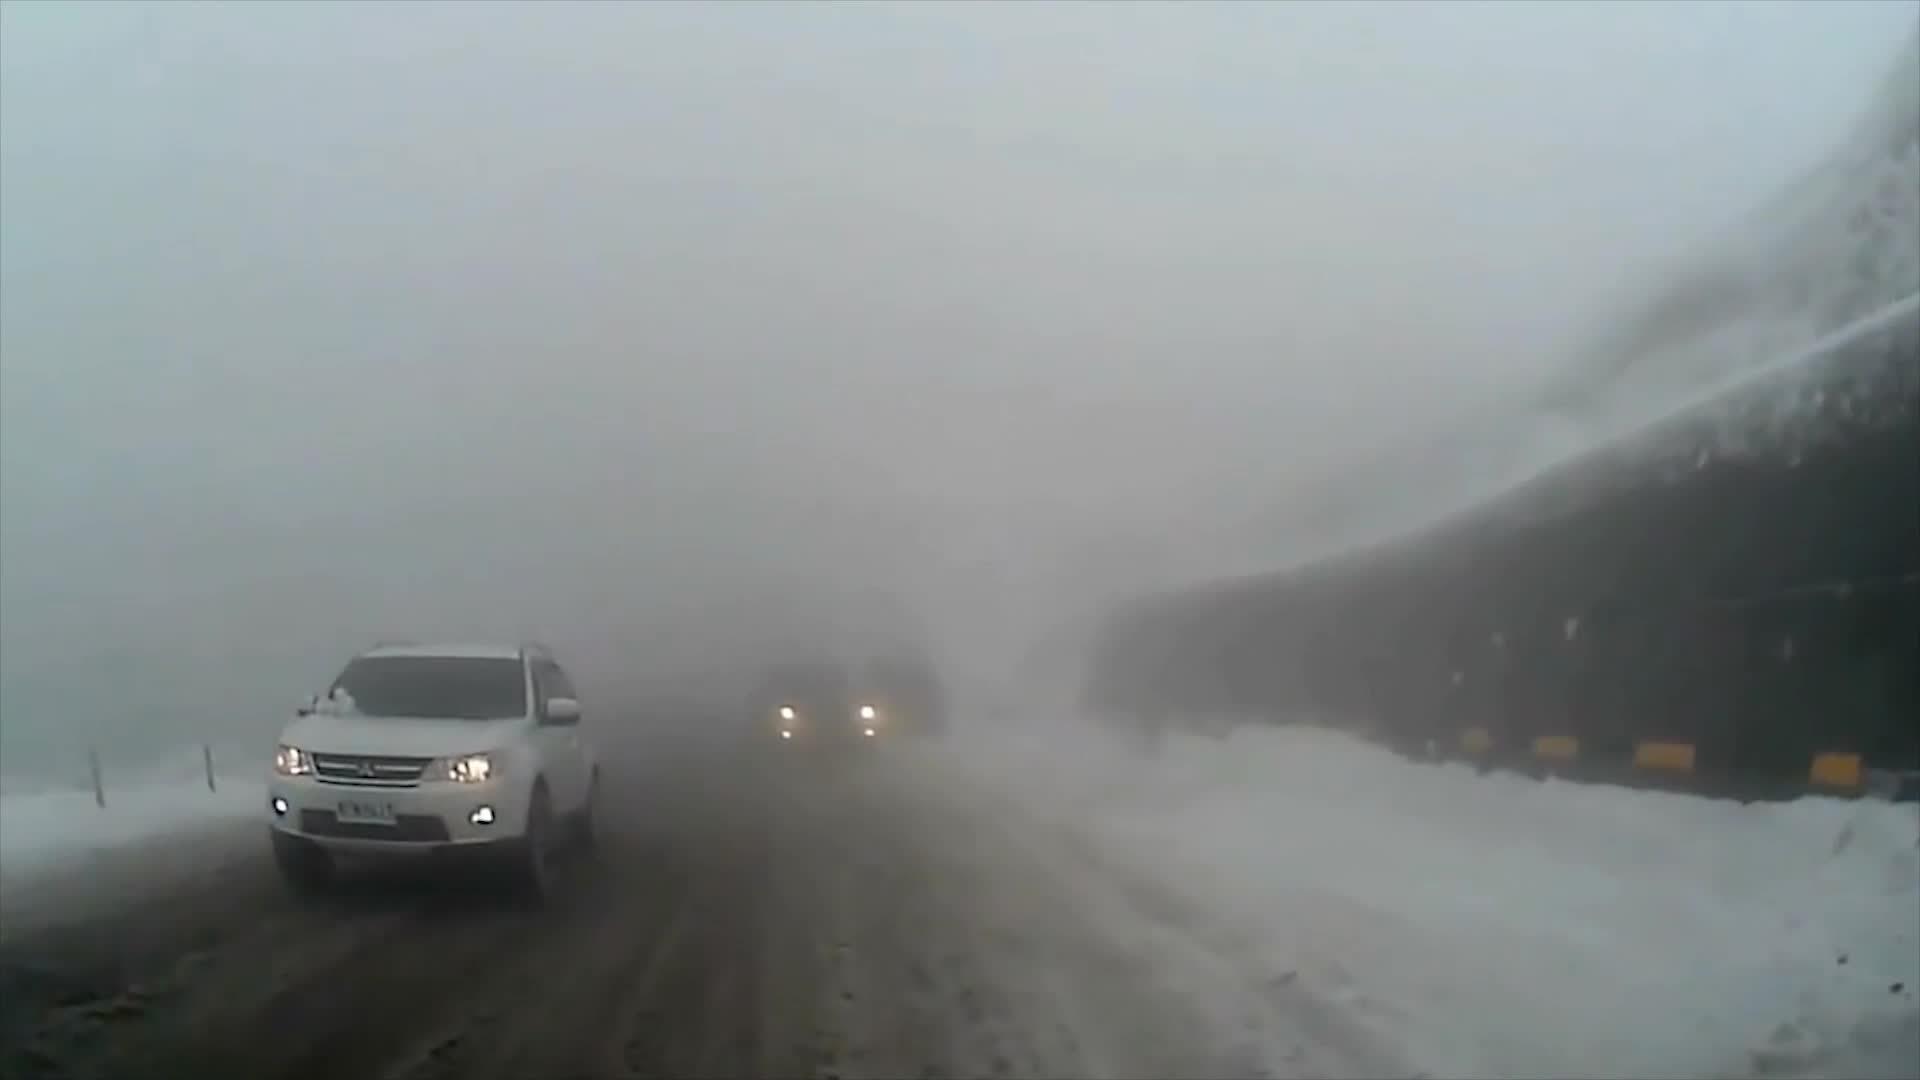vehicle: (264, 638, 608, 916), (742, 666, 884, 771)
